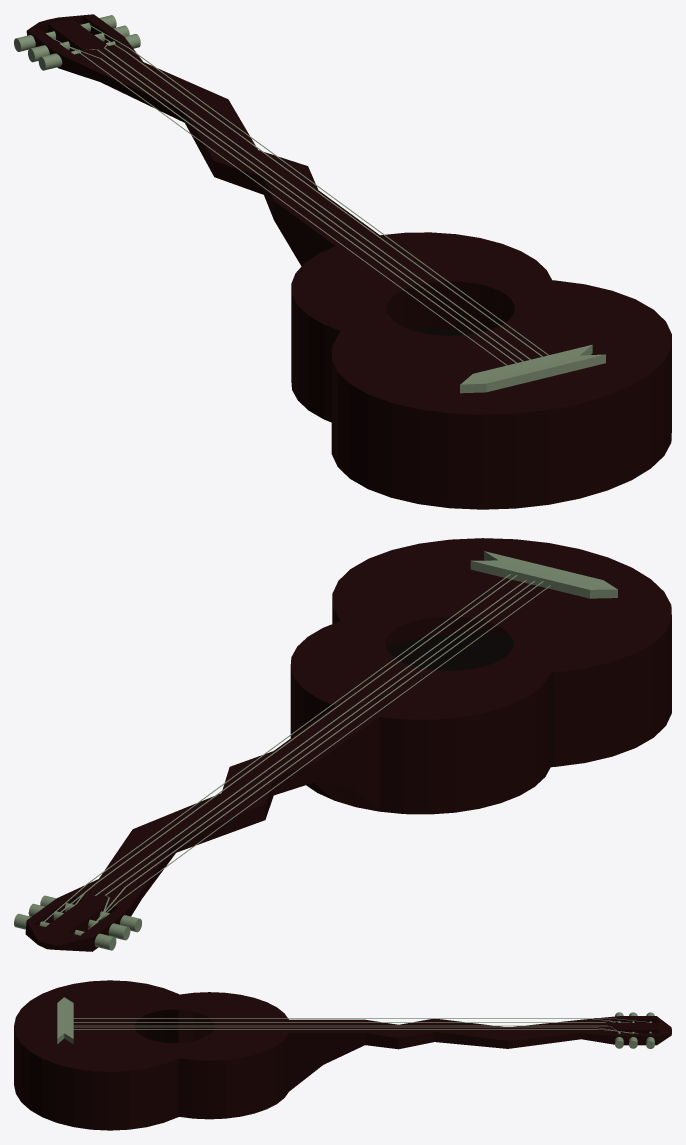
File: guitaredéformée.obj
The picture shows the model from 3 angles, top to bottom: view 1: azimuth 30°, elevation 25°; view 2: azimuth 150°, elevation 25°; view 3: azimuth 270°, elevation 25°; orthographic projection. The views are drawn at different scales.
Visible parts, largest first — view 1: Cylinder; view 2: Cylinder; view 3: Cylinder.
Part boxes in pixels (box(x1,y1,x2,y2)): Cylinder: box(14, 14, 671, 509); Cylinder: box(14, 538, 671, 951); Cylinder: box(14, 980, 671, 1130).
Size of the model in its own units: 2.67 by 0.8714 by 8.11.
